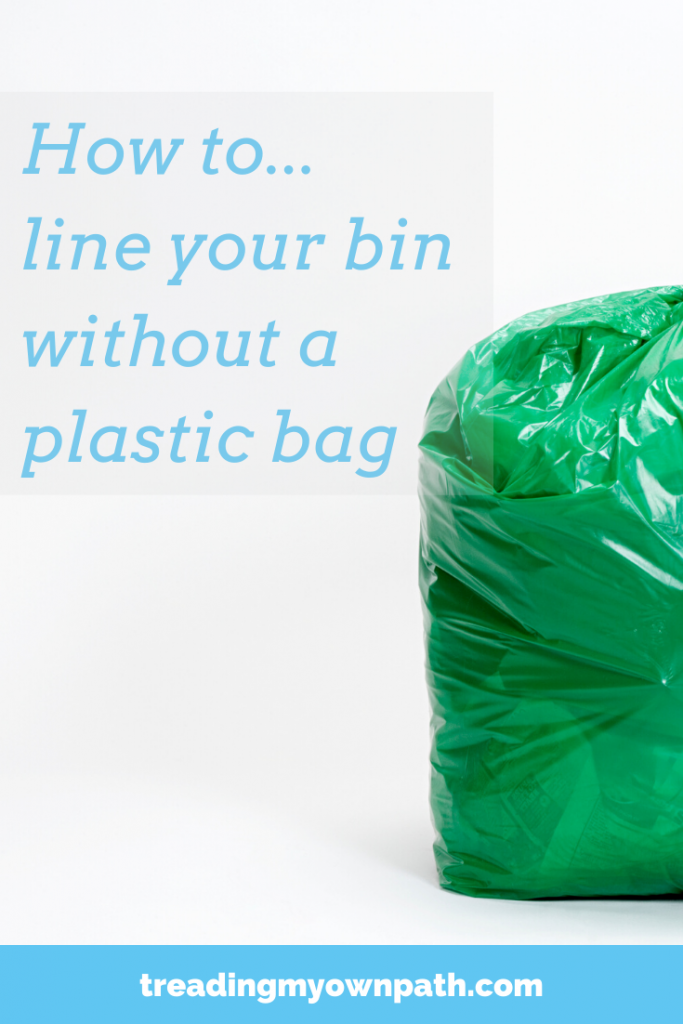plastic_bag: (407, 279, 683, 918)
